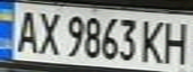3: (118, 16, 142, 63)
6: (100, 15, 121, 62)
8: (81, 12, 103, 60)
9: (60, 11, 84, 58)
A: (9, 7, 42, 54)
H: (157, 18, 193, 65)
K: (139, 17, 169, 65)
X: (33, 8, 63, 56)
